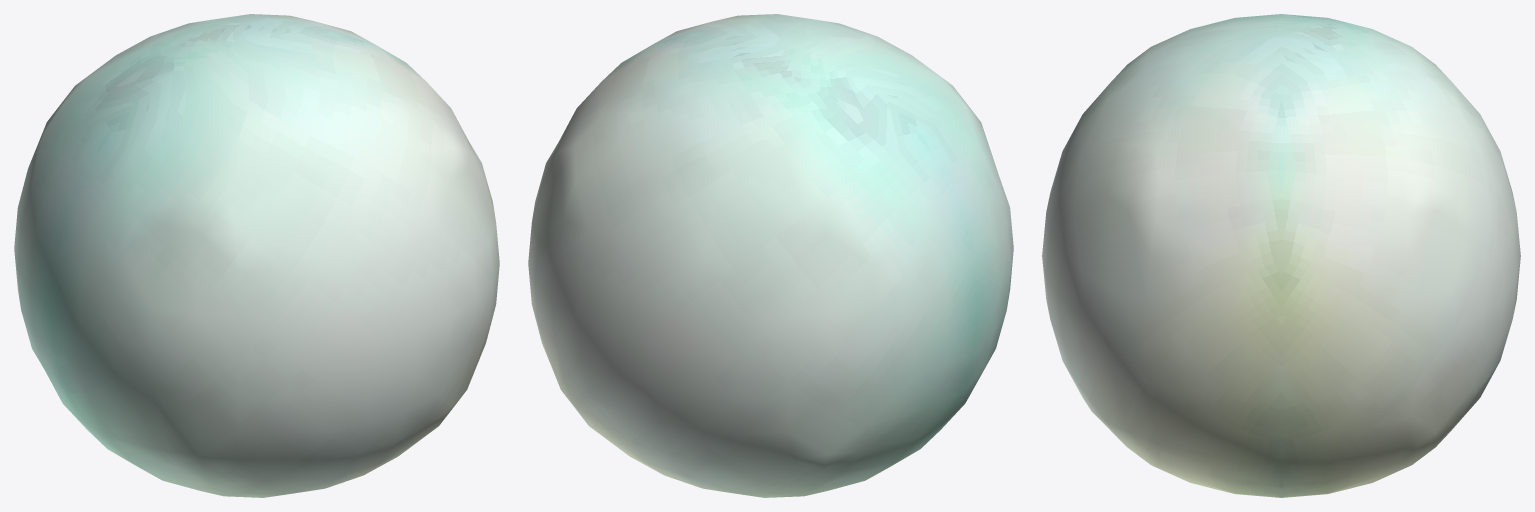
The model's file is bubble.glb.
3 views of the same model, side by side, from view 1: azimuth 30°, elevation 25°; view 2: azimuth 150°, elevation 25°; view 3: azimuth 270°, elevation 25° (orthographic).
Parts seen in each view (by area): view 1: bubble; view 2: bubble; view 3: bubble.
Boxes of the visible parts, <box> form: bubble: <box>14,14,499,497</box>; bubble: <box>528,14,1013,497</box>; bubble: <box>1042,14,1520,497</box>.
Size of the model in its own units: 0.2068 by 0.2068 by 0.2068.
Materials: 1 (1 with a texture image).
